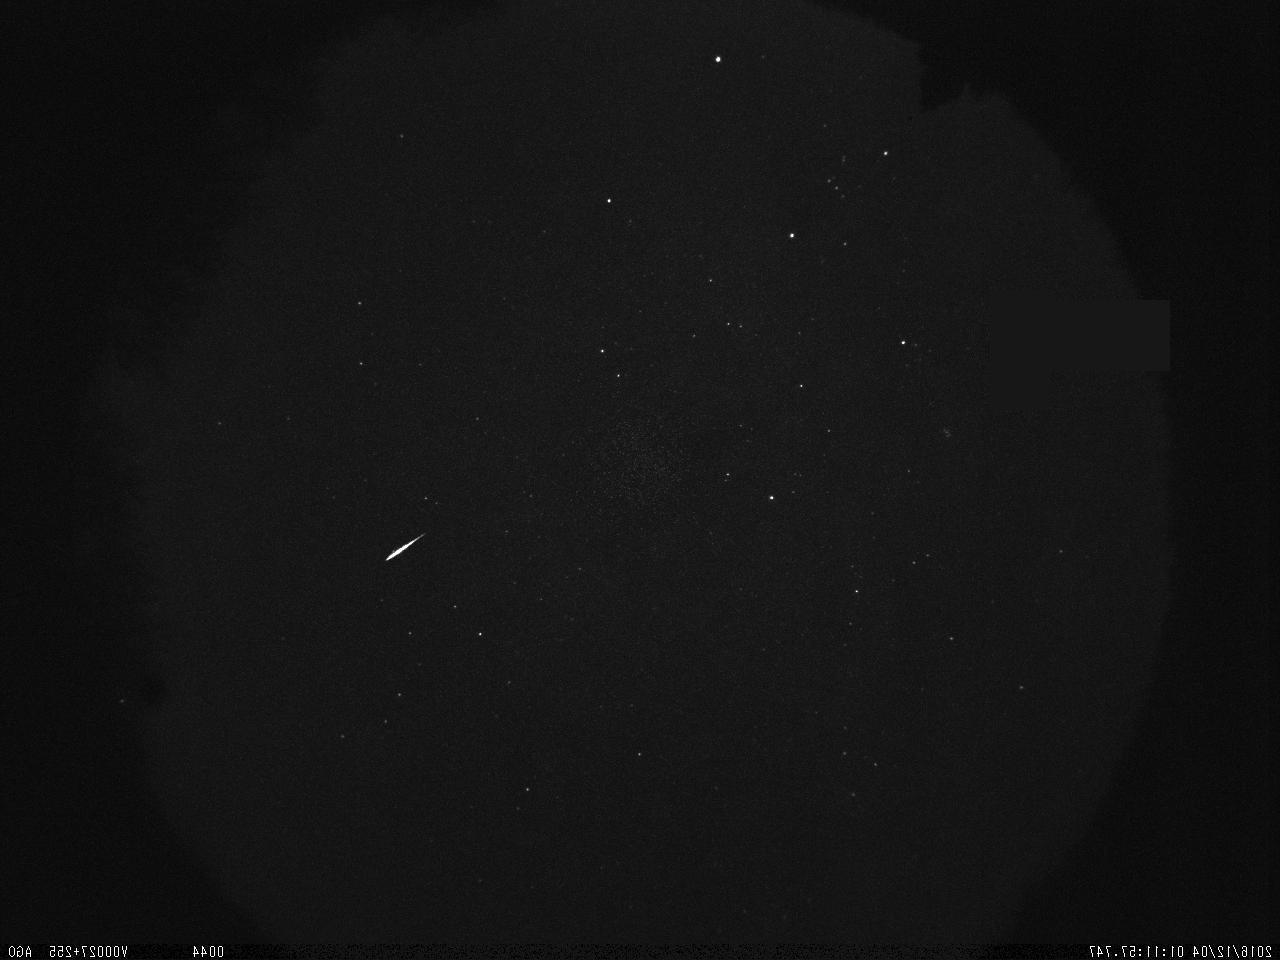meteor: (373, 519, 433, 579)
